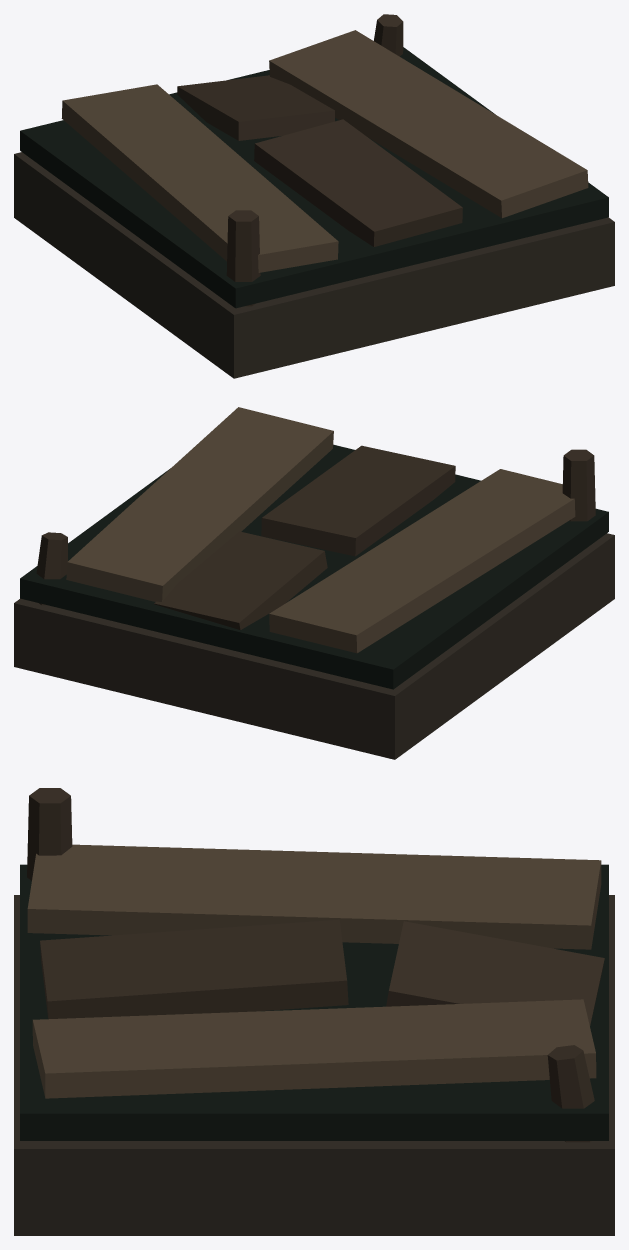
The model's file is obj_planks.glb.
The picture shows the model from 3 angles, top to bottom: view 1: azimuth 30°, elevation 25°; view 2: azimuth 150°, elevation 25°; view 3: azimuth 270°, elevation 25°; orthographic projection. The views are drawn at different scales.
Visible parts, largest first — view 1: obj_planks; view 2: obj_planks; view 3: obj_planks.
Boxes of the visible parts, <box> form: obj_planks: <box>14,14,614,378</box>; obj_planks: <box>14,407,614,759</box>; obj_planks: <box>14,788,614,1235</box>.
Size of the model in its own units: 1 by 0.37 by 1.
